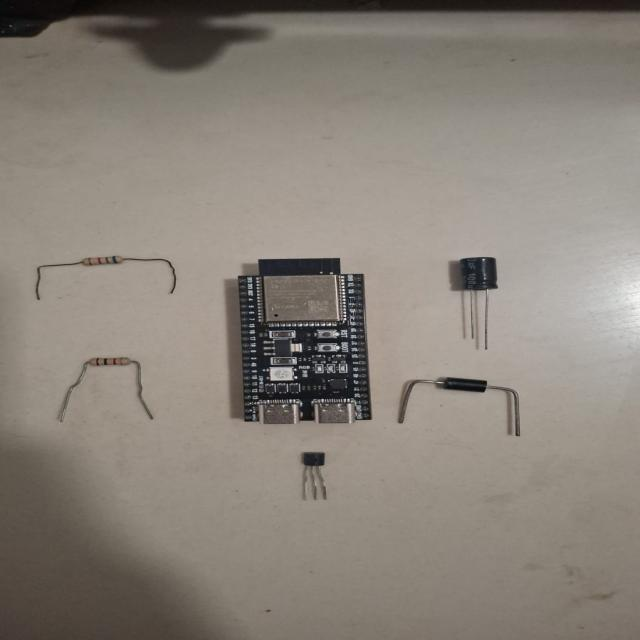Capacitor: (450, 256, 499, 352)
Diodo: (398, 376, 520, 437)
ESP32: (232, 258, 372, 425)
Resistencia: (35, 255, 177, 300), (58, 357, 154, 422)
Transistor: (299, 451, 327, 502)
